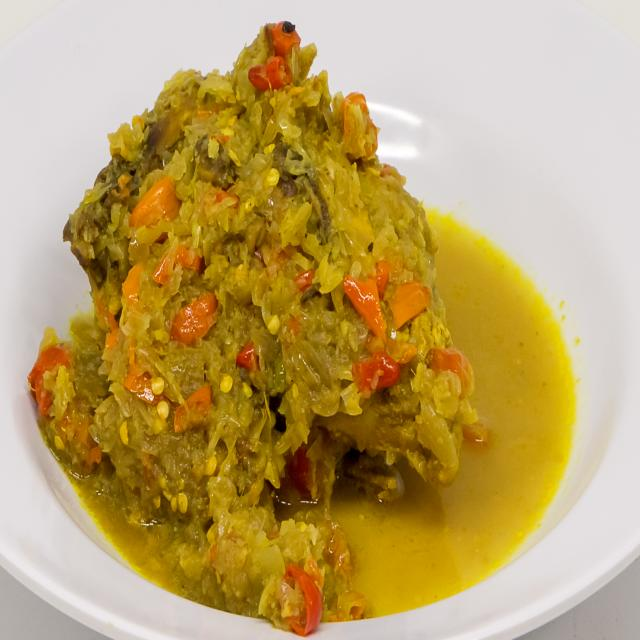Ayam-Betutu: (54, 9, 491, 630)
